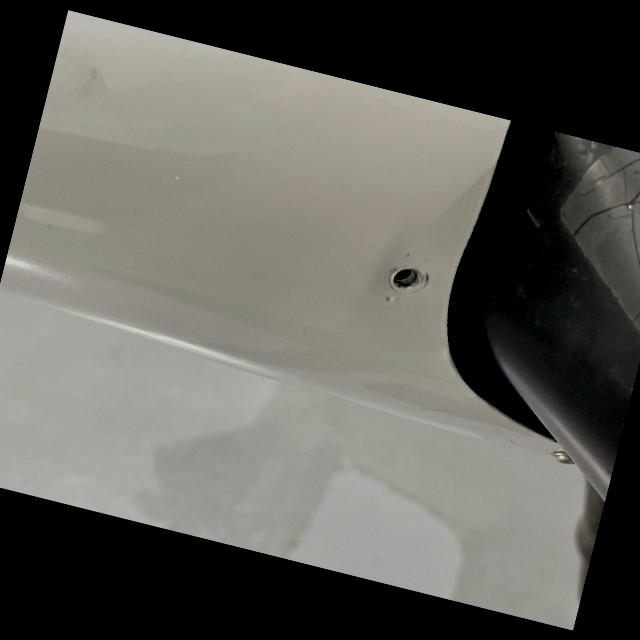Missing Fastener: (378, 260, 431, 298)
